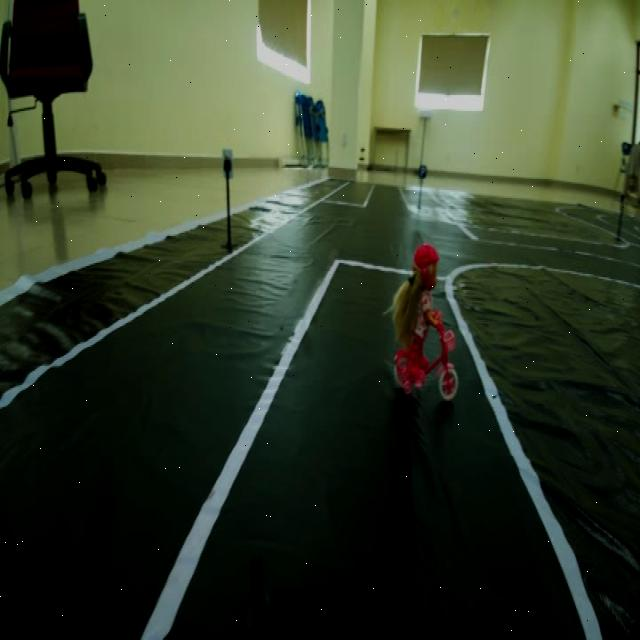pedestrian: (386, 252, 464, 394)
